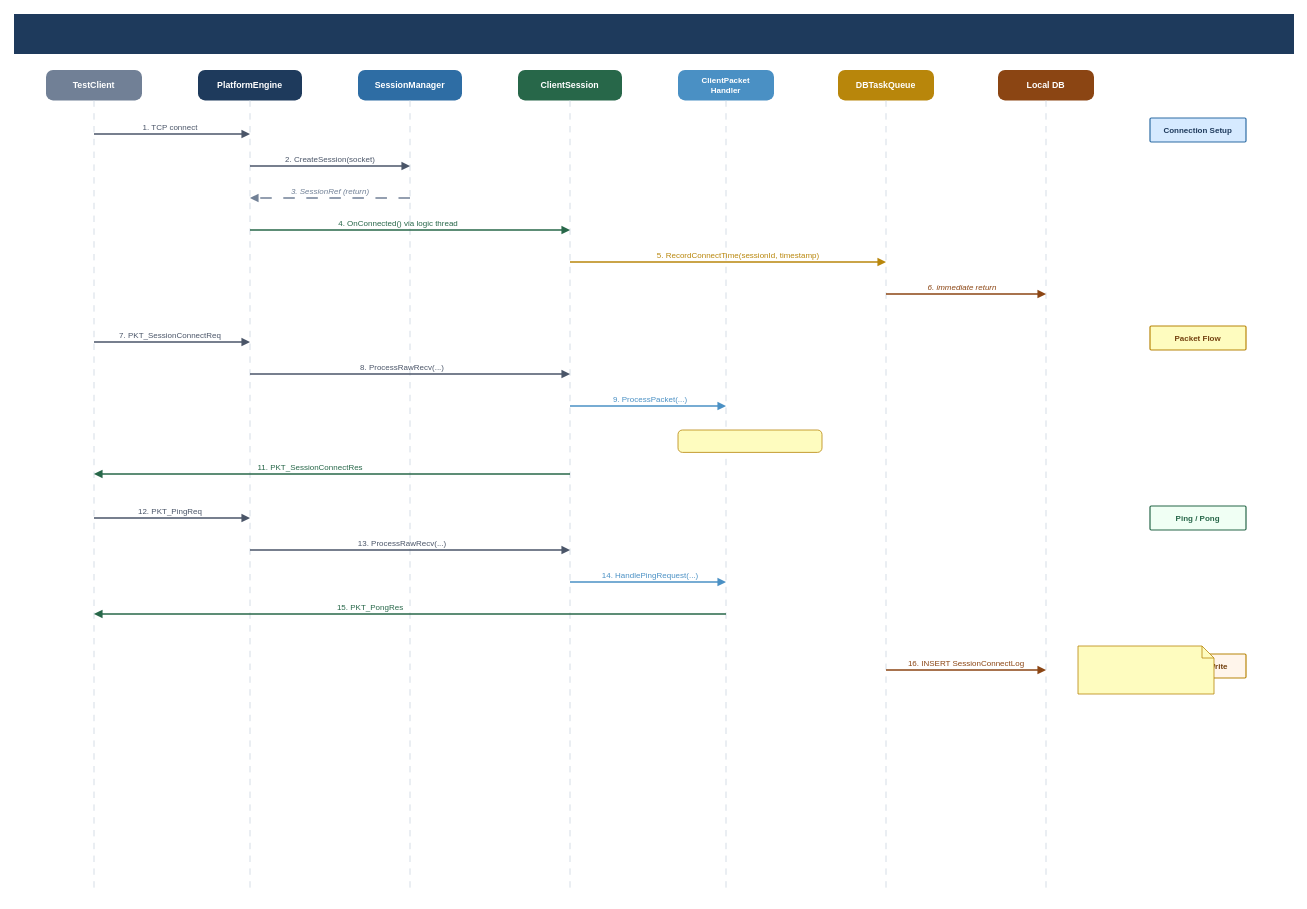
Image size: 1307x909. Some labels were removed from this diagram. Each missing label, with the box of its shape:
10. build SessionConnectRes: (677, 429, 822, 452)
Client Lifecycle Sequence Diagram: (14, 14, 1294, 54)
Note: DB write is dequeued asynchronously after connect flow completes: (1077, 645, 1214, 694)
